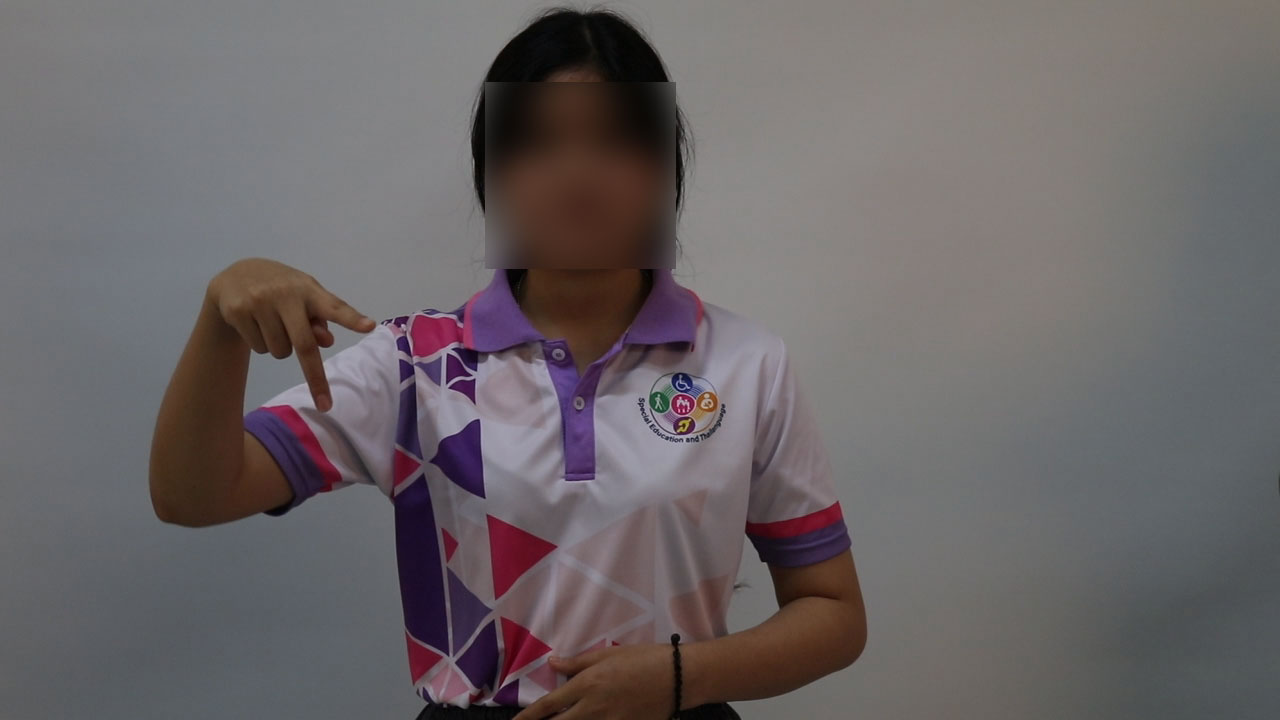por: (197, 229, 381, 420)
